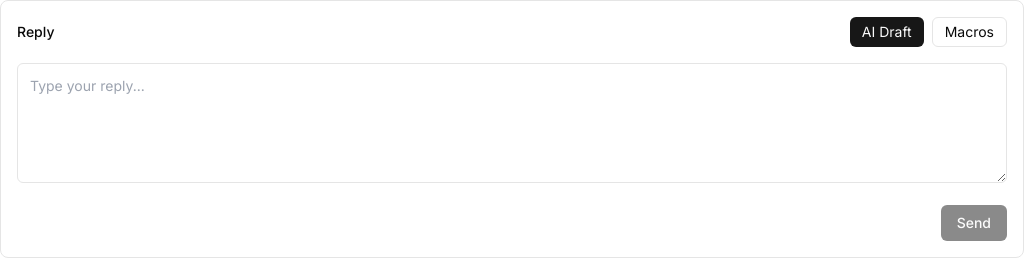
Test: CaseComposer - Feature Flag Integration › Macro Button Functionality › macro button works alongside AI draft button when both enabled
expect the button with test id "ai-draft-button" is shown: met, box top-left (850, 17), bottom-right (924, 47)
Click the button with test id "macro-button": point(969, 32) top-left (932, 17), bottom-right (1007, 47)
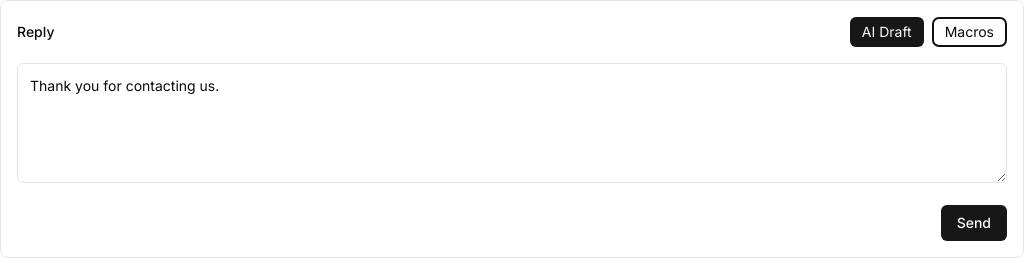
expect the text box named "message input" holds "Thank you for contacting us.": met, box top-left (17, 63), bottom-right (1007, 183)
